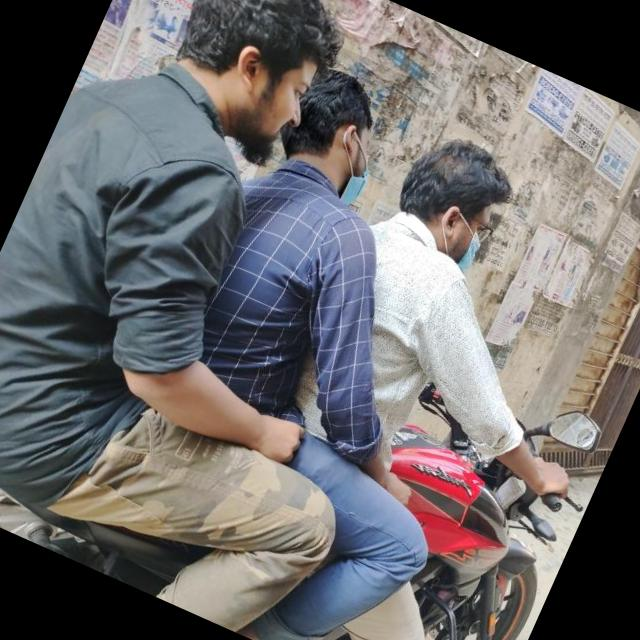without helmet: (158, 0, 344, 137), (393, 125, 552, 278), (272, 42, 411, 214)
